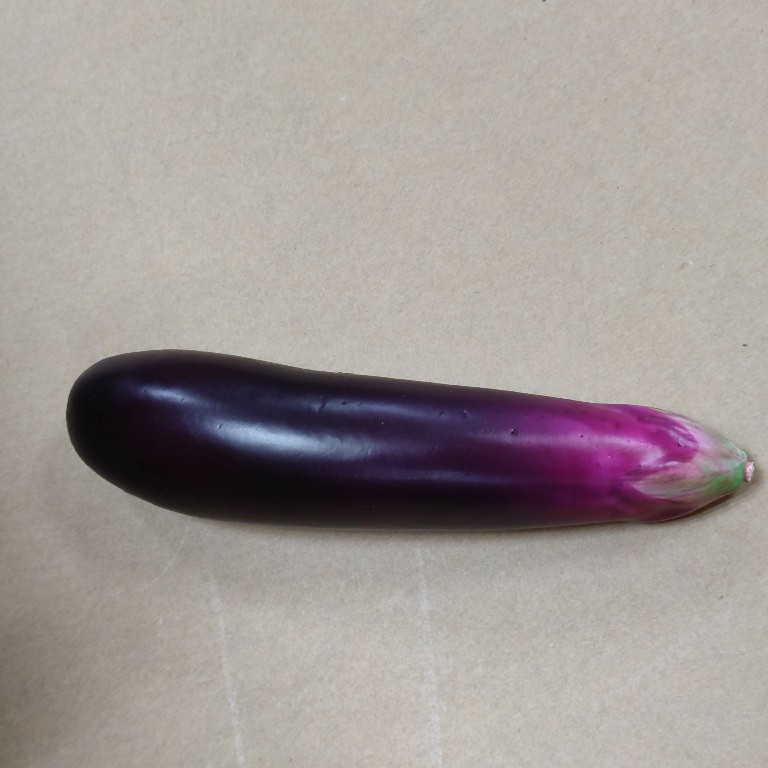fruit_eggplant: (63, 344, 762, 535)
